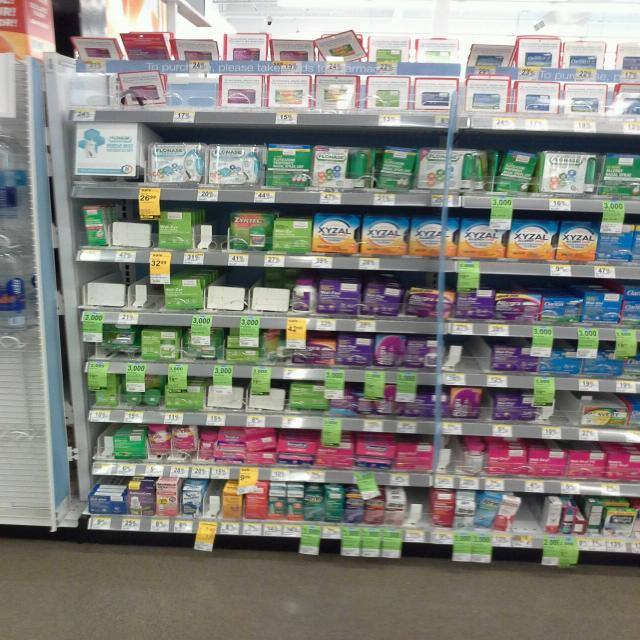unorganised: (318, 30, 370, 66), (71, 28, 123, 63), (173, 28, 217, 66), (267, 28, 312, 64), (125, 26, 169, 61), (121, 70, 168, 101), (468, 38, 512, 66), (98, 330, 139, 353), (466, 152, 490, 191), (349, 146, 374, 181), (244, 434, 280, 454)
